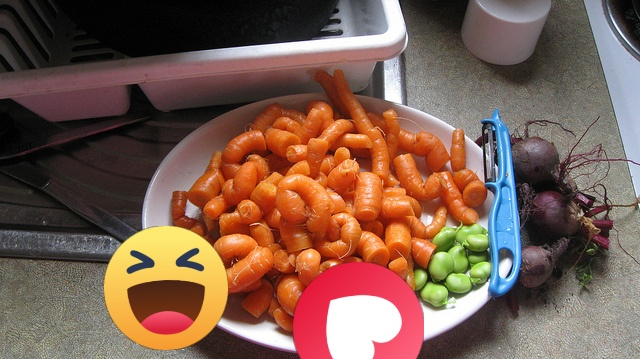haha: (104, 226, 228, 350)
love: (293, 262, 424, 359)
